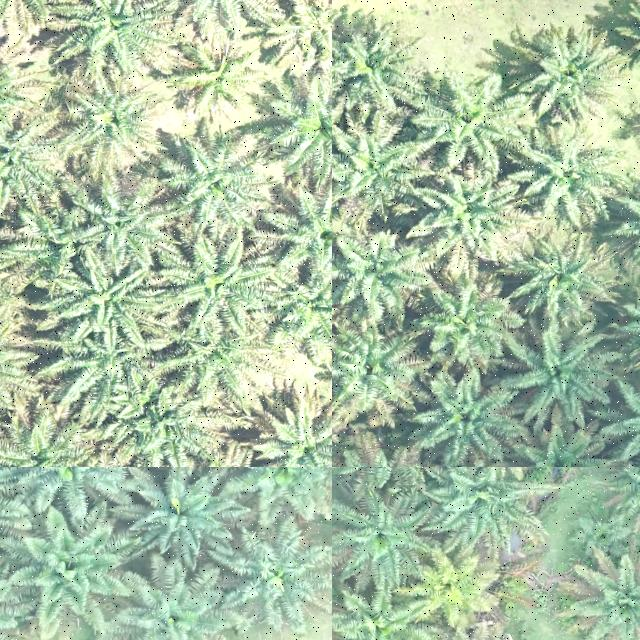Ganoderma: (416, 558, 484, 618)
